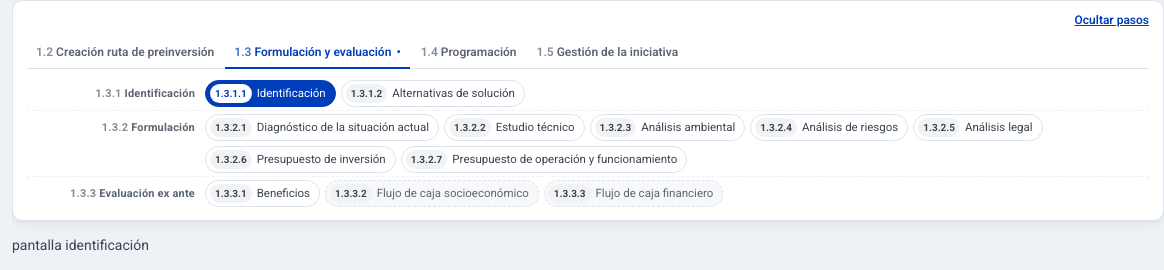
Test: PasosProyectoLayout · árbol del sistema › cambiar de proceso muestra sus capítulos sin salir de la pantalla
Click the button "1.5 Gestión de la iniciativa" at (607, 53), box [528,37,687,69]
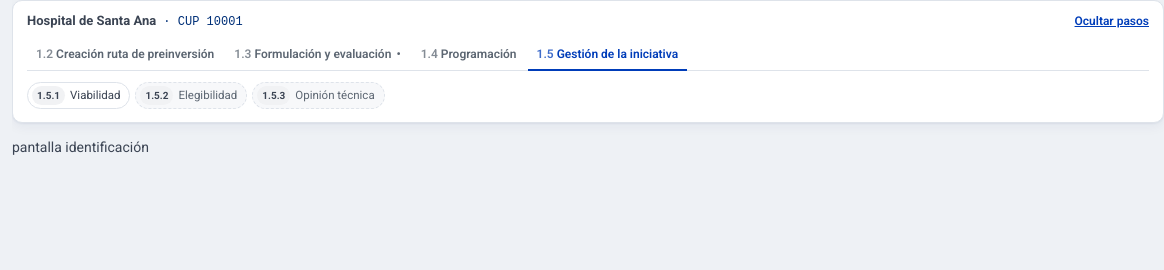
Check: the text "pantalla identificación" is shown, box [12,139,149,155]
Check: the text "Viabilidad" is shown, box [70,87,120,104]
Check: the text "Hospital de Santa Ana" is shown, box [27,13,156,28]
